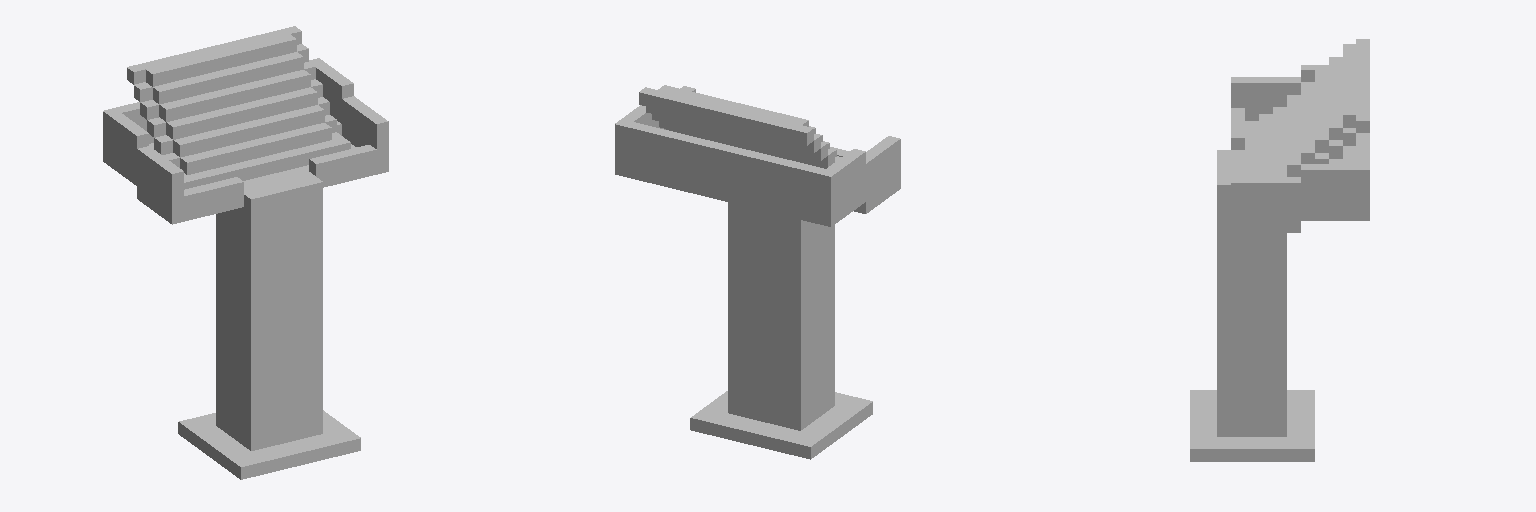
The model's file is Book Altar.obj.
3 renders of one model, left to right at view 1: azimuth 30°, elevation 25°; view 2: azimuth 150°, elevation 25°; view 3: azimuth 270°, elevation 25°, orthographic.
Visible parts, largest first — view 1: object 1; view 2: object 1; view 3: object 1.
Boxes of the visible parts, <box> form: object 1: <box>103,26,388,479</box>; object 1: <box>615,85,900,459</box>; object 1: <box>1190,39,1369,461</box>.
Size of the model in its own units: 1.8 by 2.8 by 1.3.